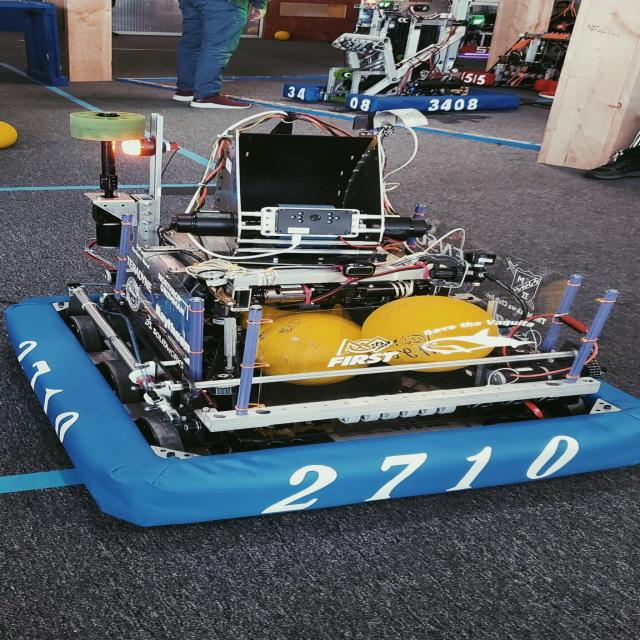robot: (6, 110, 640, 527), (276, 0, 524, 116), (462, 31, 567, 91)
